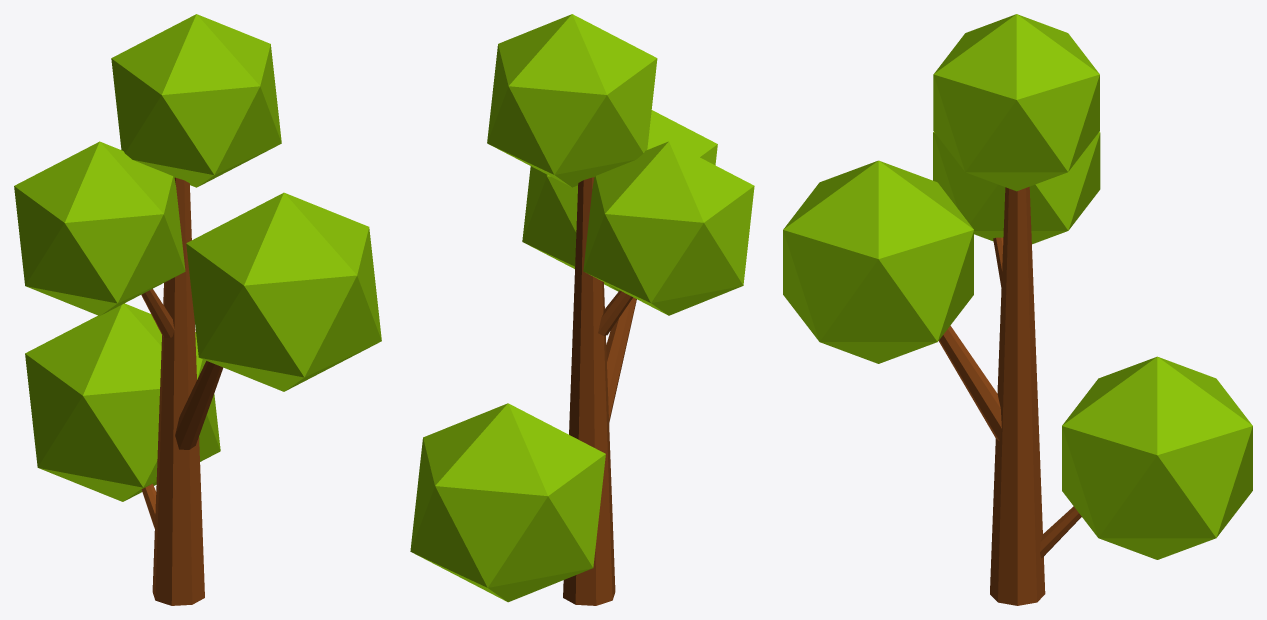
File: arbol2.obj
The picture shows the model from 3 angles, left to right: view 1: azimuth 30°, elevation 25°; view 2: azimuth 150°, elevation 25°; view 3: azimuth 270°, elevation 25°; orthographic projection. The views are drawn at different scales.
Parts seen in each view (by area): view 1: Icosphere_Icosphere_003, 1_Cylinder_010; view 2: Icosphere_Icosphere_003, 1_Cylinder_010; view 3: Icosphere_Icosphere_003, 1_Cylinder_010.
Part boxes in pixels (x1,y1,x2,y2): Icosphere_Icosphere_003: (14, 14, 381, 501); 1_Cylinder_010: (141, 177, 223, 605); Icosphere_Icosphere_003: (410, 14, 754, 602); 1_Cylinder_010: (563, 177, 636, 605); Icosphere_Icosphere_003: (783, 14, 1252, 559); 1_Cylinder_010: (939, 186, 1081, 605).
Size of the model in its own units: 1.98 by 3.95 by 2.86.
